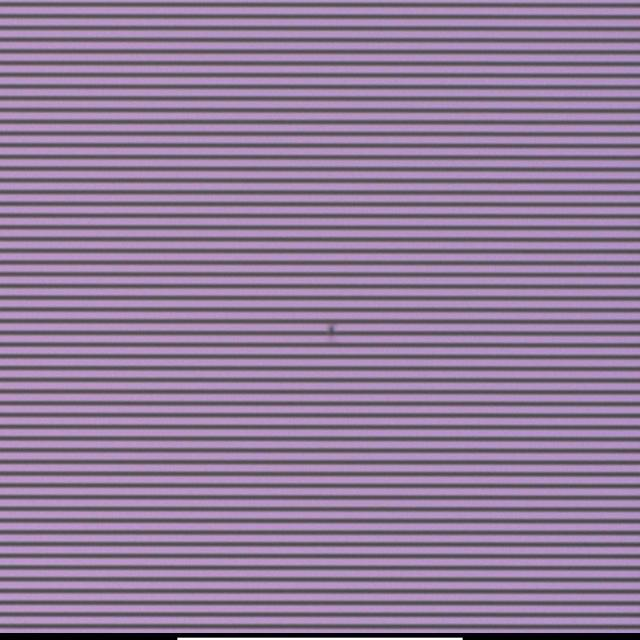nonvisual: (323, 322, 342, 342)
